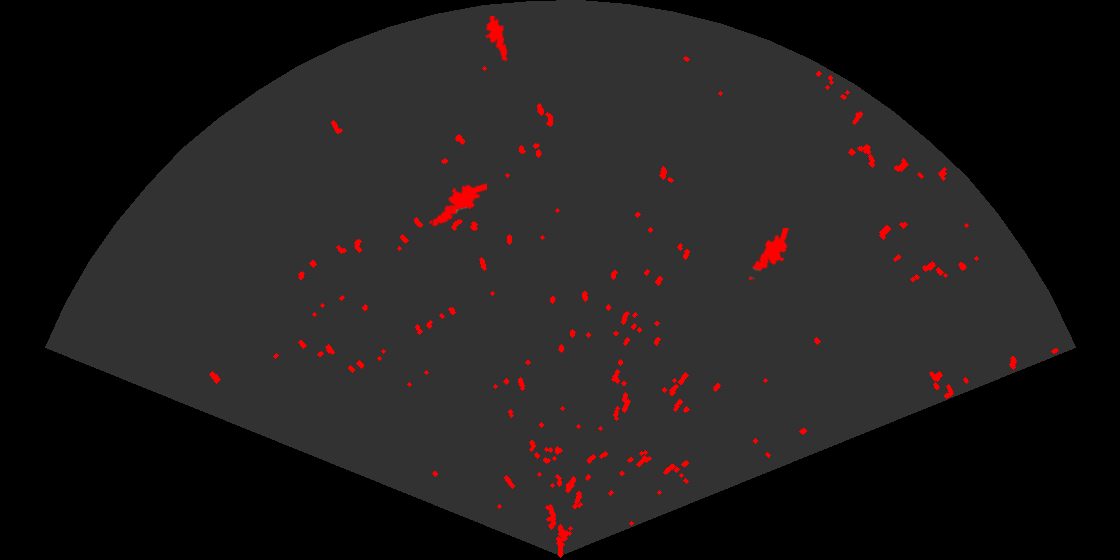frogman: (430, 181, 487, 228), (747, 228, 791, 283), (484, 16, 509, 61)
